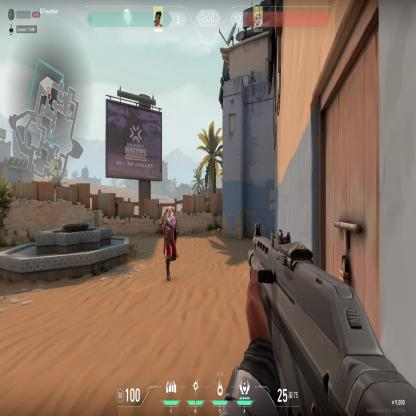enemy: (162, 203, 179, 281)
